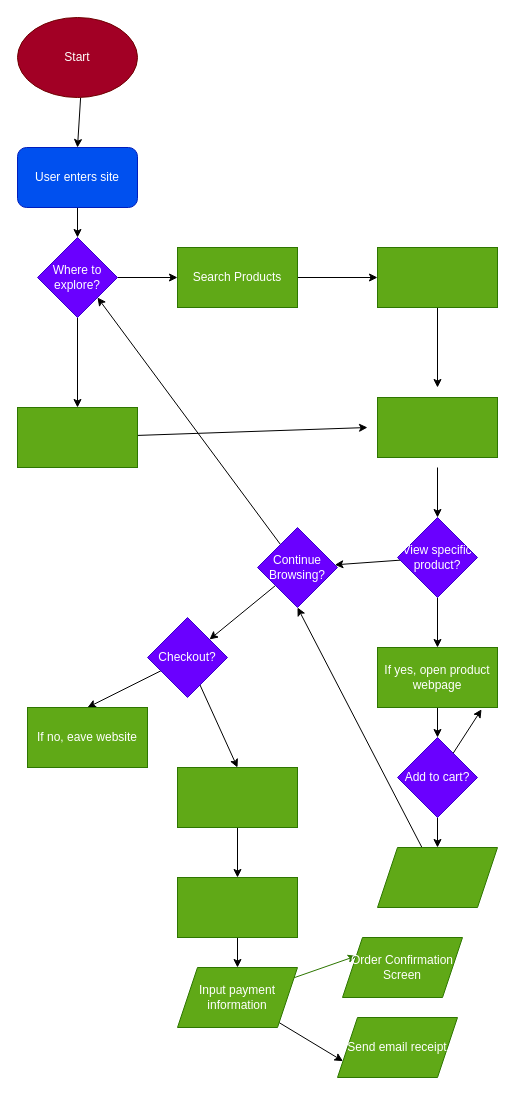
Image size: 515x1095. Some labels were removed from this diagram. Each missing label, with the centre of its shape:
"Begin looking over products" goes at (437,427).
"Explore on homepage" goes at (77,437).
"If yes, added to cart confirmation" goes at (437,877).
"If yes, go to View Cart Screen" goes at (237,797).
"Provides inputs" goes at (437,277).
"View Payment Screen" goes at (237,907).
